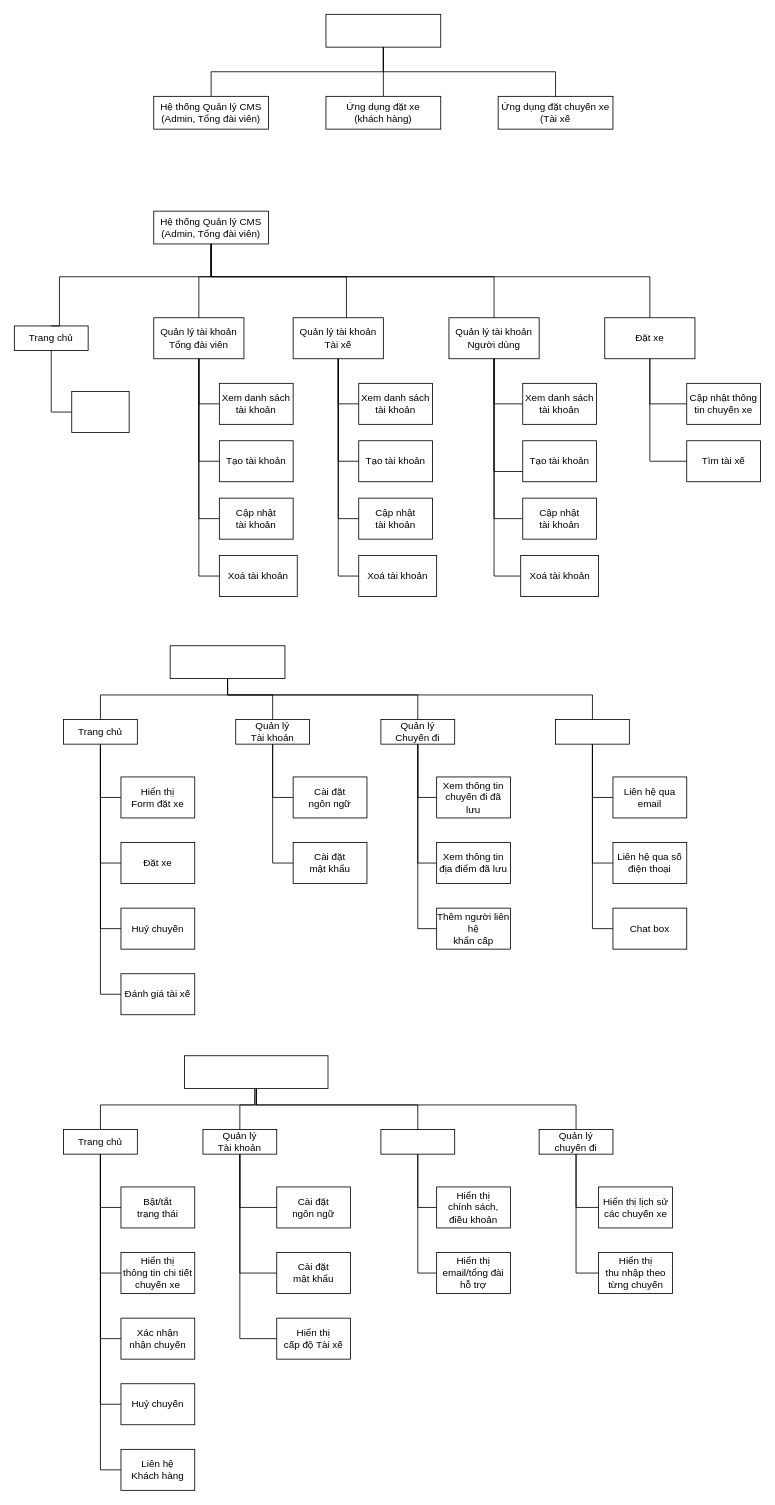
Image size: 775x1505. Some labels were removed from this diagram. Each missing label, with the box of its shape:
Hệ thống đặt xe: (325, 14, 441, 47)
Hỗ Trợ: (555, 719, 629, 744)
Thông báo sự kiện: (71, 391, 129, 433)
Trung tâm trợ giúp: (380, 1129, 455, 1154)
Ứng dụng nhận chuyến xe (Tài xế): (184, 1055, 328, 1089)
Ứng dụng đặt xe ( khách hàng ): (169, 645, 285, 679)
